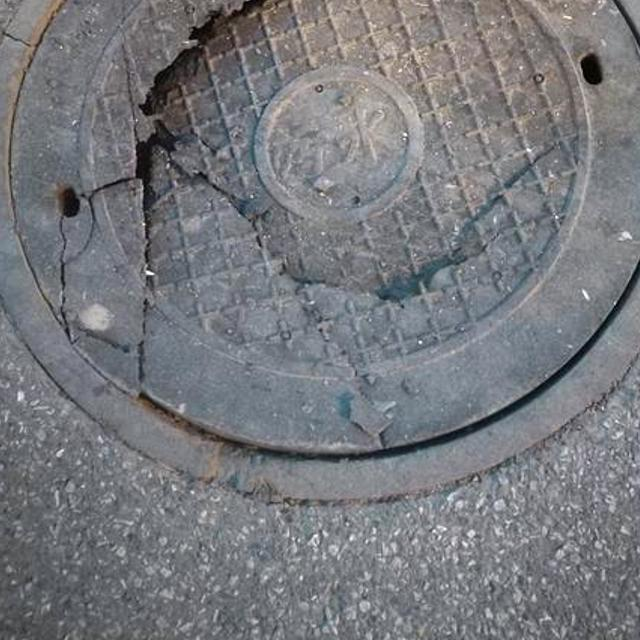broke: (2, 0, 640, 502)
